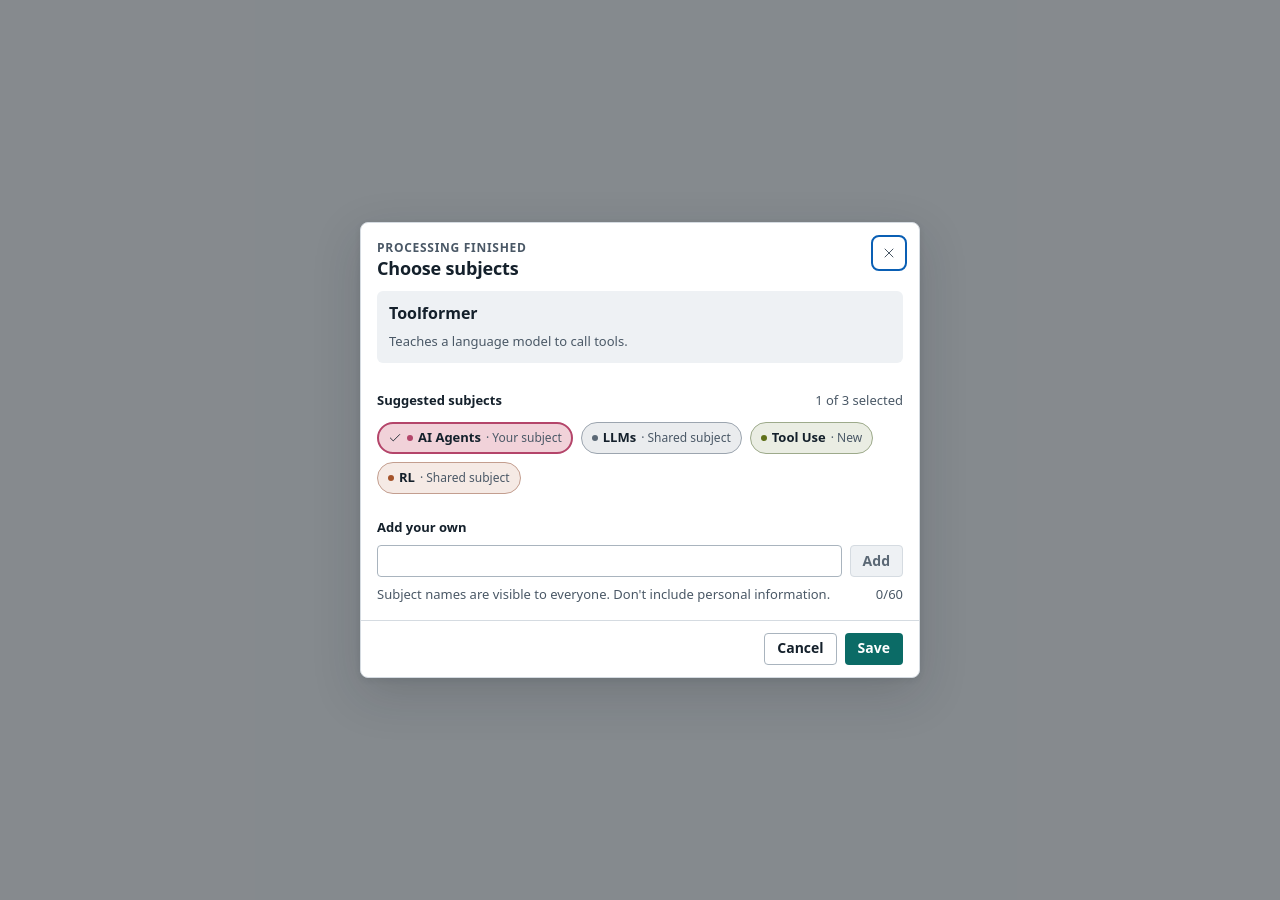
Scenario: SubjectPicker › stops at three subjects and disables the rest
Click the button "LLMs · Shared subject".
click(661, 438)  # box [581,422,742,454]
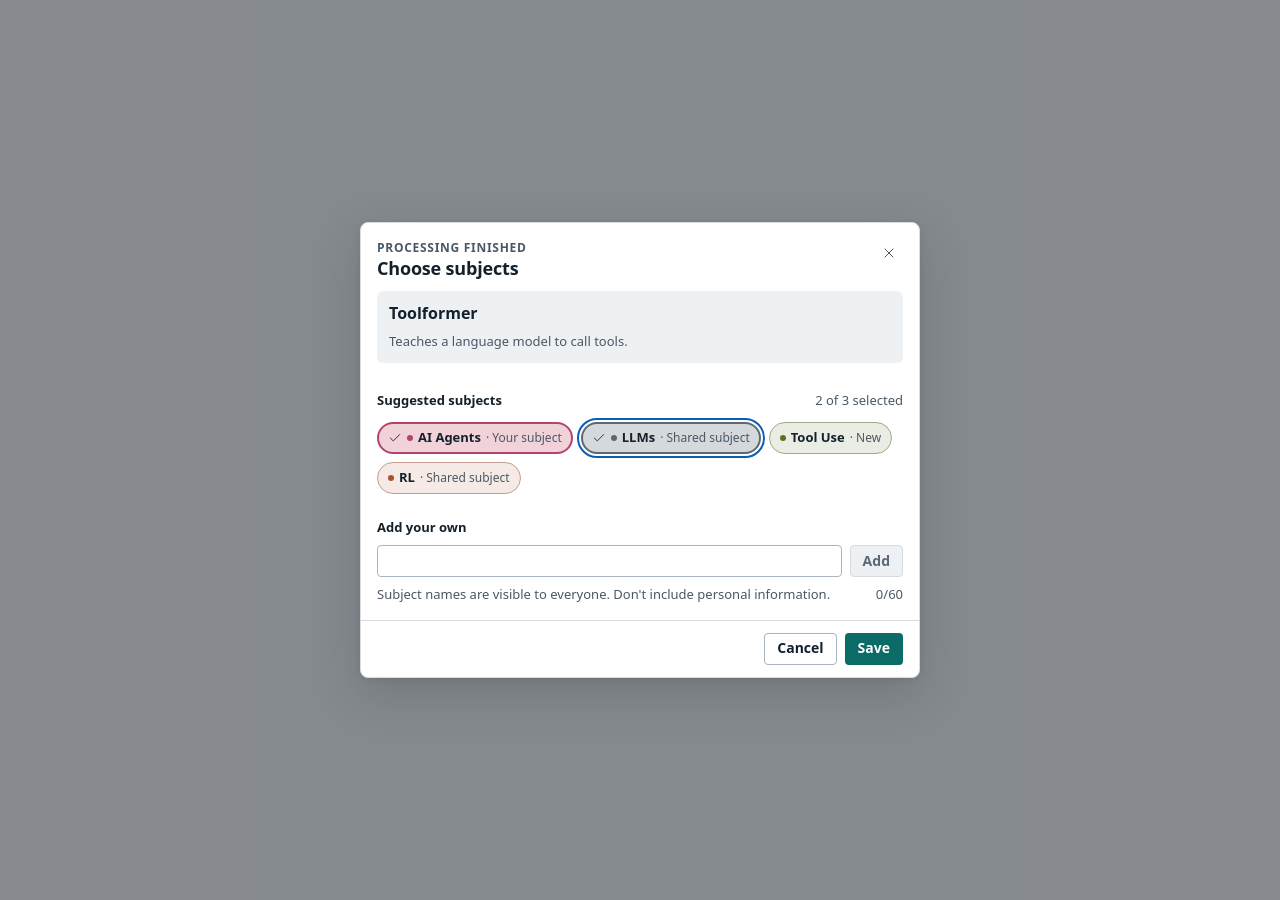
Click the button "Tool Use · New".
click(830, 438)  # box [769,422,892,454]
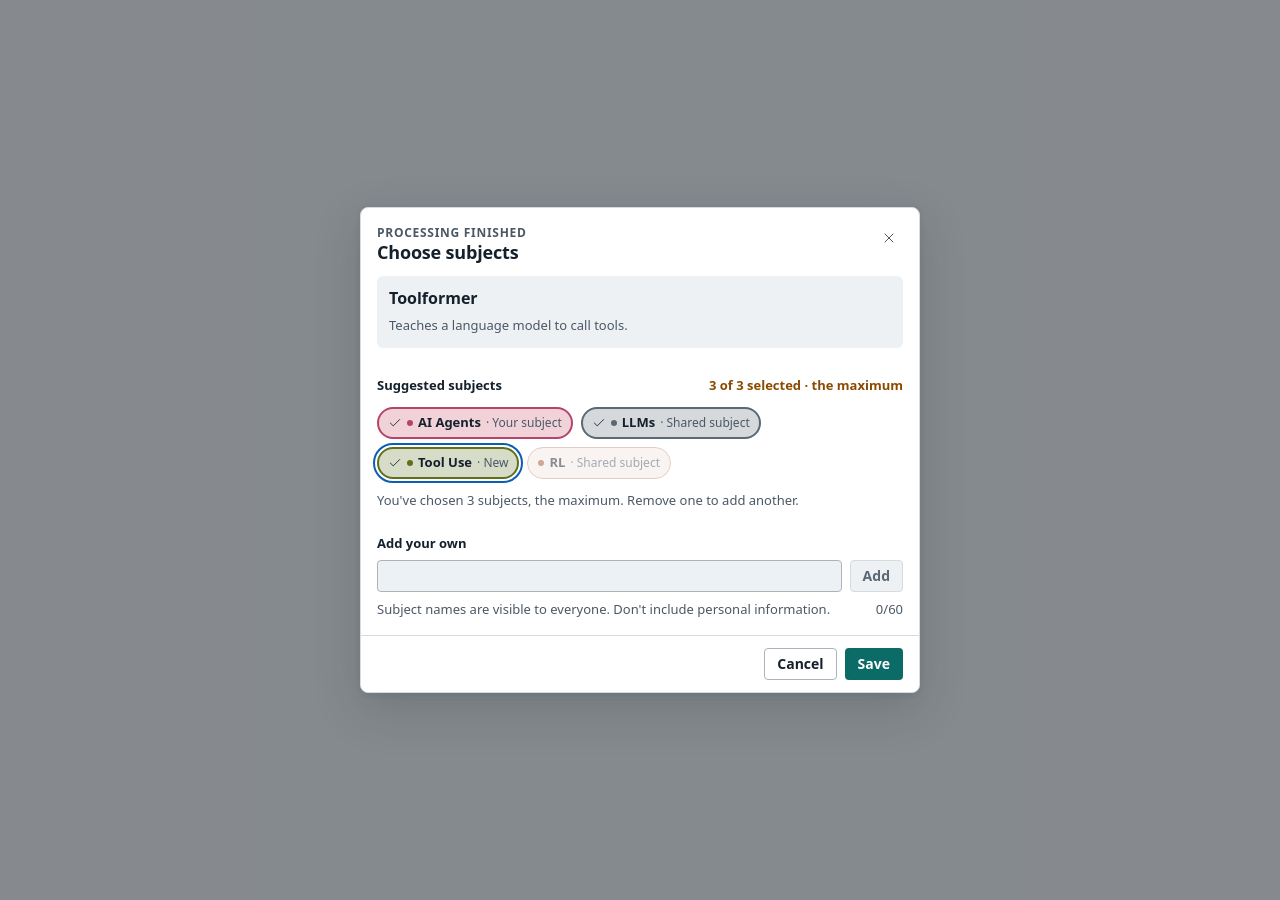
Now the text "3 of 3 selected · the maximum" is shown, box [709,376,903,395]
Now the text "You've chosen 3 subjects, the maximum. Remove one to add another." is shown, box [377,491,799,509]
Now the button "RL · Shared subject" is disabled, box [528,447,671,479]
